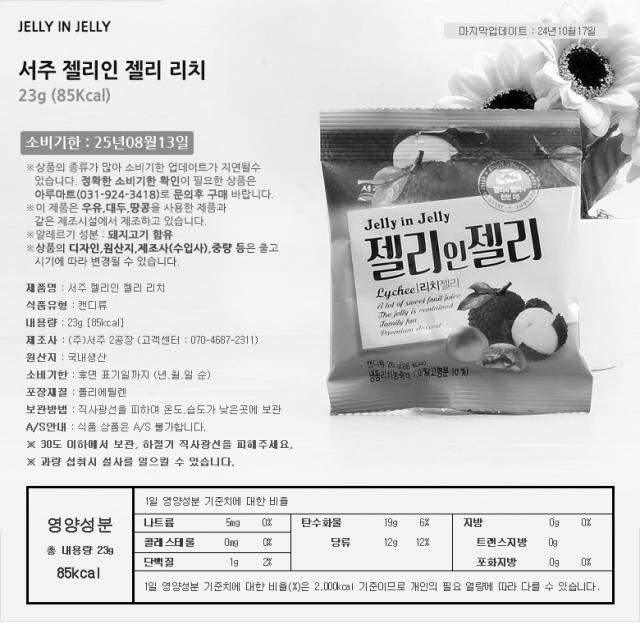Nutrition Label: (9, 479, 628, 627)
